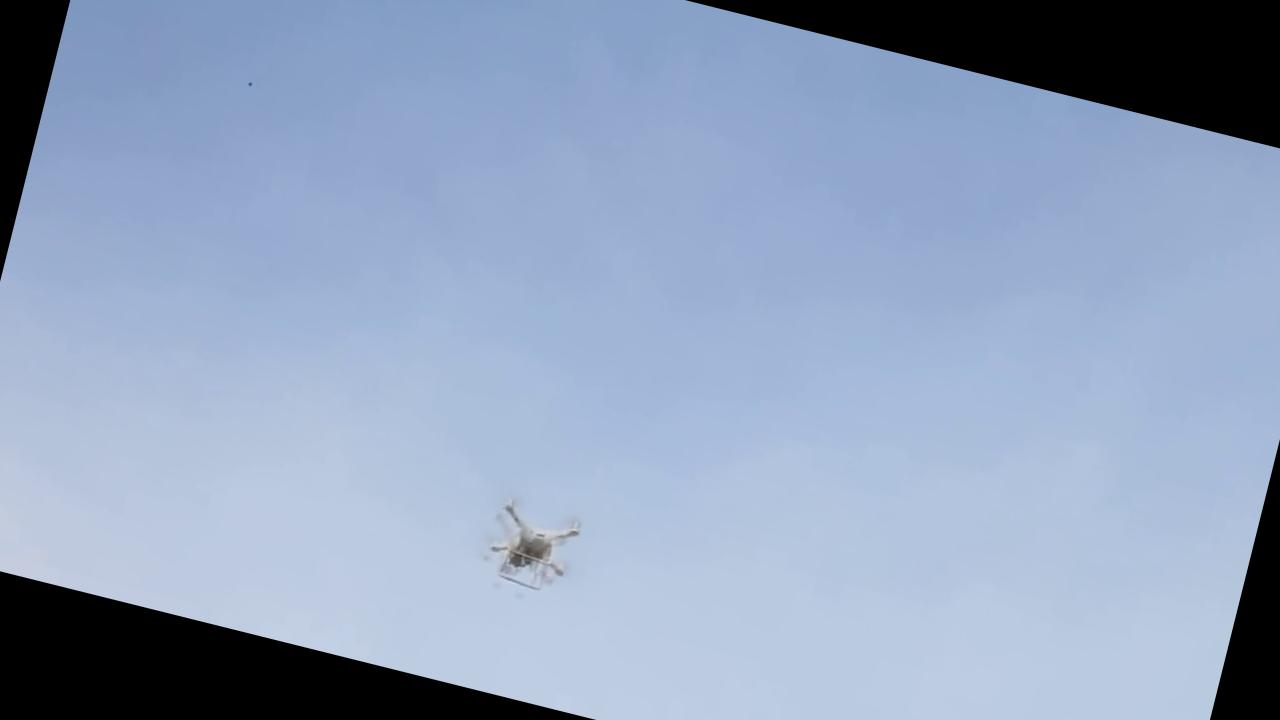drone: (467, 484, 599, 598)
